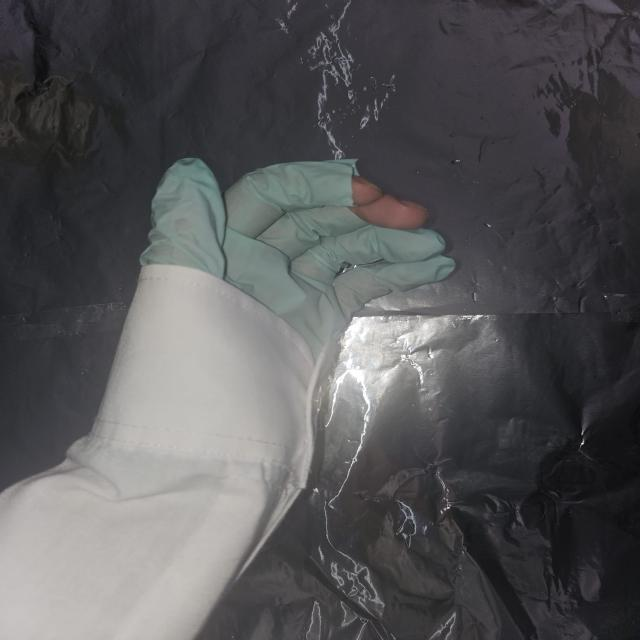gloves_damaged: (142, 154, 457, 365)
